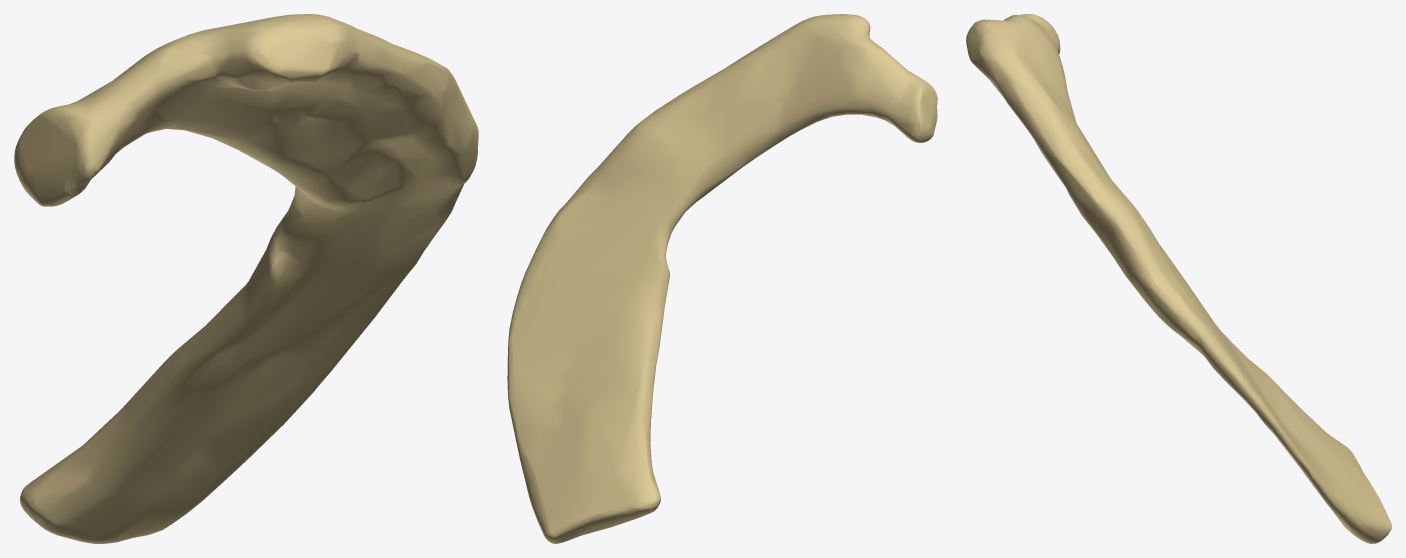
3 renders of one model, left to right at view 1: azimuth 30°, elevation 25°; view 2: azimuth 150°, elevation 25°; view 3: azimuth 270°, elevation 25°, orthographic. The views are drawn at different scales.
Parts seen in each view (by area): view 1: 左侧第一肋; view 2: 左侧第一肋; view 3: 左侧第一肋.
Part boxes in pixels (left/top/right/bottom): 左侧第一肋: left=14, top=14, right=478, bottom=543; 左侧第一肋: left=507, top=14, right=937, bottom=543; 左侧第一肋: left=966, top=14, right=1391, bottom=543.
Bounding box in the file's own units: 0.0809 × 0.1041 × 0.0875.
